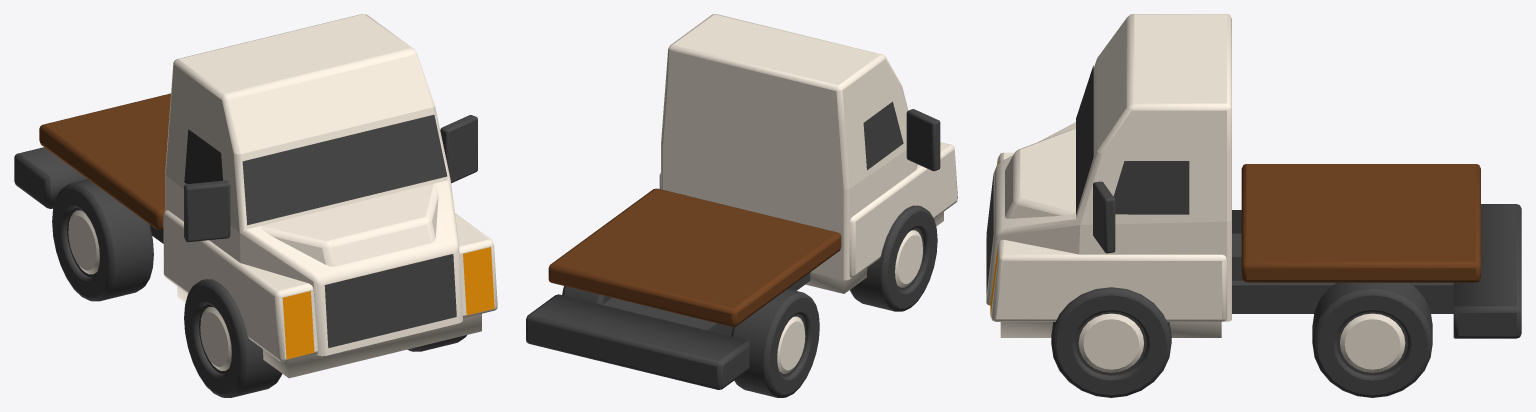
The model's file is truck-001.fbx.
The picture shows the model from 3 angles, left to right: view 1: azimuth 30°, elevation 25°; view 2: azimuth 150°, elevation 25°; view 3: azimuth 270°, elevation 25°; orthographic projection. The views are drawn at different scales.
Visible parts, largest first — view 1: truck-001; view 2: truck-001; view 3: truck-001.
Part boxes in pixels (<box>): truck-001: <box>14,14,497,397</box>; truck-001: <box>526,14,957,397</box>; truck-001: <box>986,14,1521,397</box>.
Size of the model in its own units: 1.06 by 0.9958 by 1.7.
